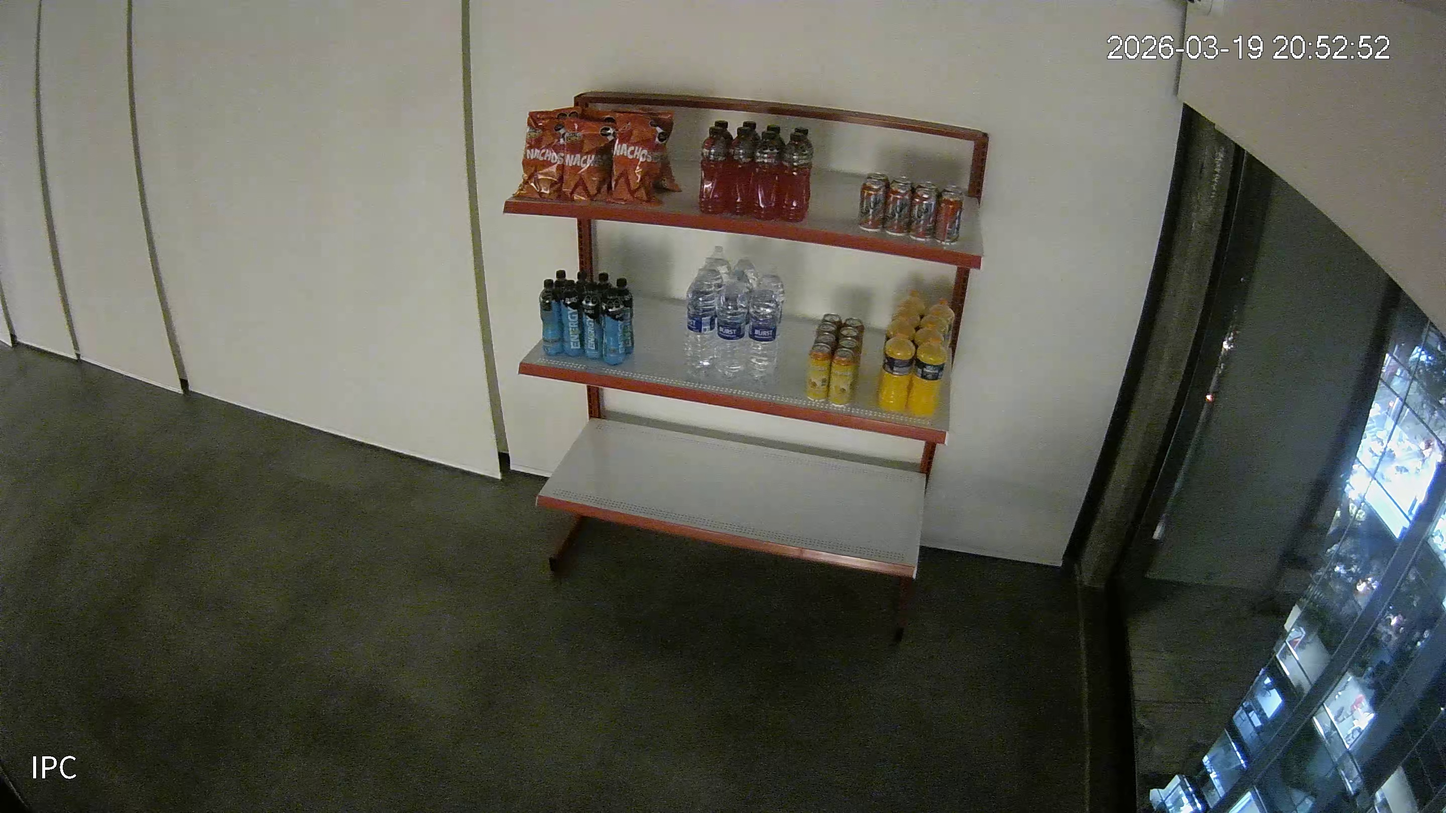agua_burst: (746, 277, 784, 376), (715, 274, 747, 378), (686, 268, 714, 380)
burst_energetica_roja: (778, 130, 813, 224), (712, 120, 732, 146), (743, 119, 760, 145)
burst_energy: (561, 276, 583, 354), (616, 278, 633, 354), (597, 272, 612, 294)
nachos_naturasol: (608, 113, 666, 204), (562, 117, 615, 201), (514, 117, 565, 199)
nebraska_mango: (802, 342, 832, 399), (816, 332, 836, 345), (838, 337, 858, 348)
sisi_cola: (884, 182, 910, 237), (909, 186, 934, 238), (860, 177, 884, 231)
sun_paradise_naranja: (910, 336, 947, 419), (877, 331, 914, 413), (927, 296, 951, 325)
